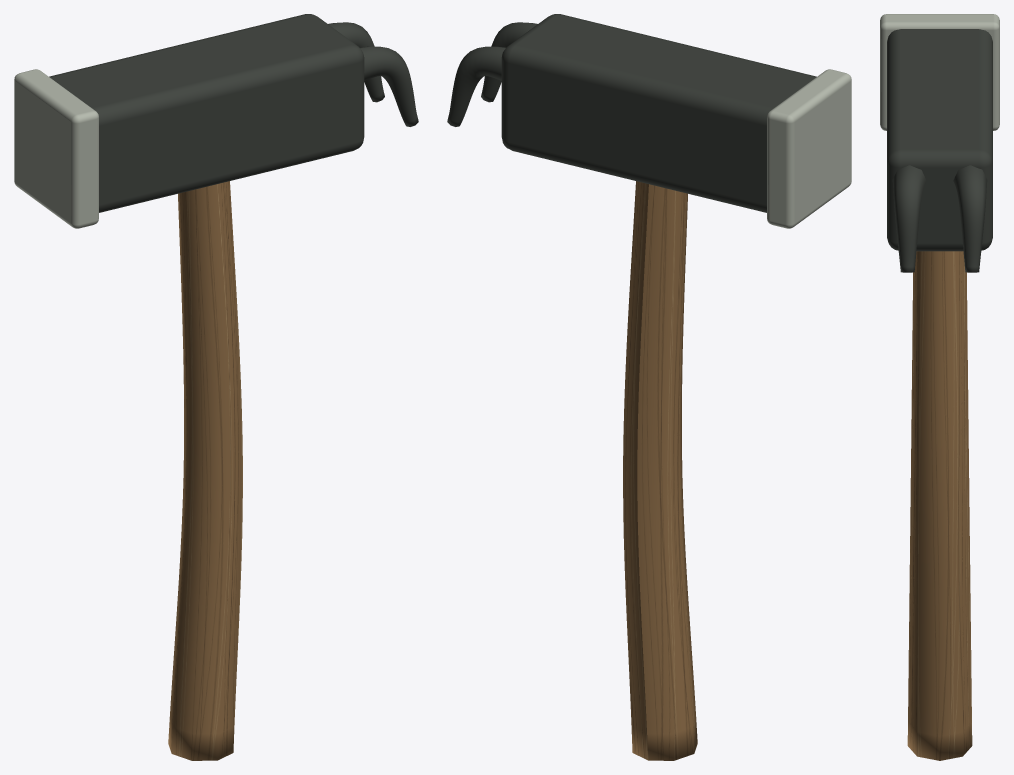
Rendered from props_p7__p7_hammer.glb.
3 views of the same model, side by side, from view 1: azimuth 30°, elevation 25°; view 2: azimuth 150°, elevation 25°; view 3: azimuth 270°, elevation 25° (orthographic). The views are drawn at different scales.
Parts seen in each view (by area): view 1: hammer_head, handle, striking_face, reference_static_surfaces; view 2: hammer_head, handle, striking_face, reference_static_surfaces; view 3: handle, hammer_head, reference_static_surfaces, striking_face.
Boxes of the visible parts, x1,y1,x2,y2 form: hammer_head: [49, 14, 364, 212]; handle: [168, 181, 242, 760]; striking_face: [14, 69, 98, 228]; reference_static_surfaces: [328, 22, 418, 126]; hammer_head: [501, 14, 816, 212]; handle: [623, 181, 697, 760]; striking_face: [767, 69, 851, 228]; reference_static_surfaces: [447, 22, 537, 126]; handle: [907, 251, 972, 760]; hammer_head: [887, 29, 992, 251]; reference_static_surfaces: [892, 165, 987, 272]; striking_face: [880, 14, 999, 130].
Bounding box in the file's own units: 0.1907 × 0.3525 × 0.0579.
Materials: 4 (1 with a texture image).
